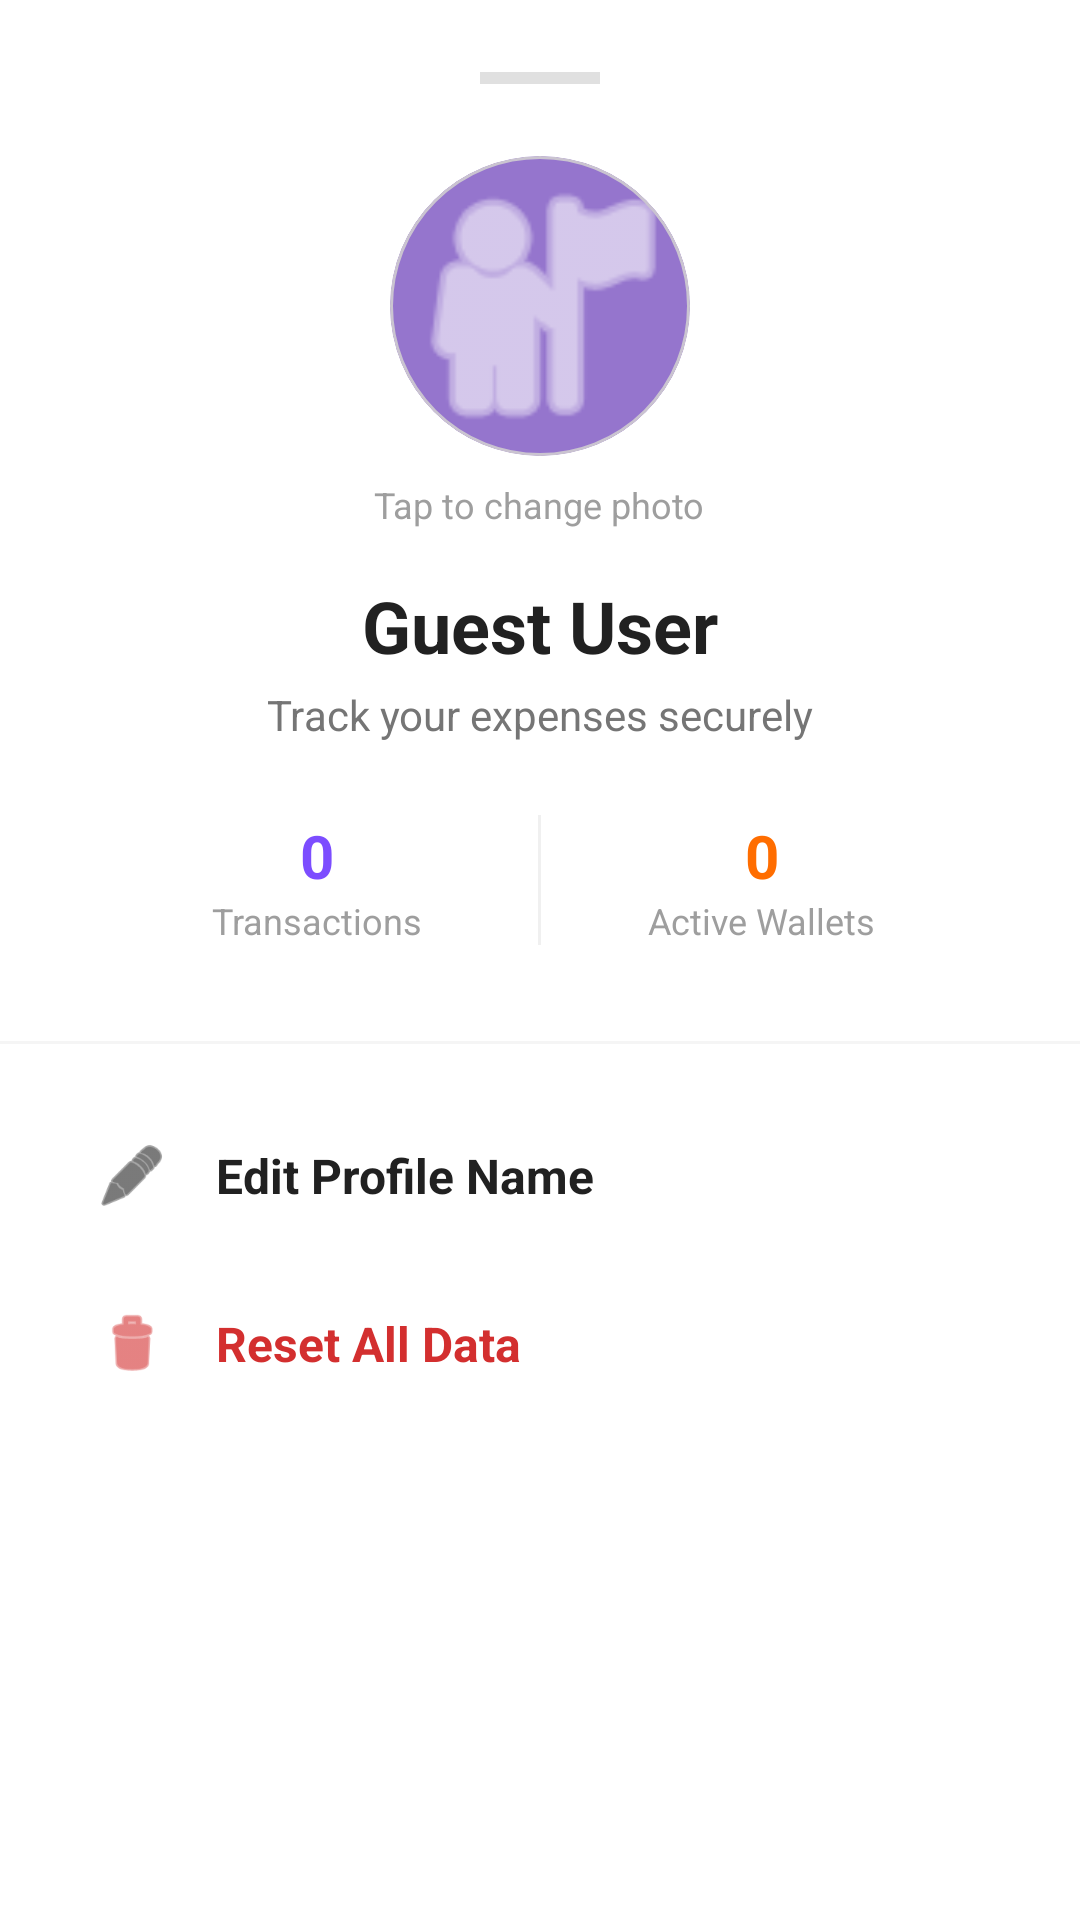

Icons on this 1080w x 1920h Android screen, each with the point to tap as (x=x, y=y):
delete: (x=132, y=1343)
